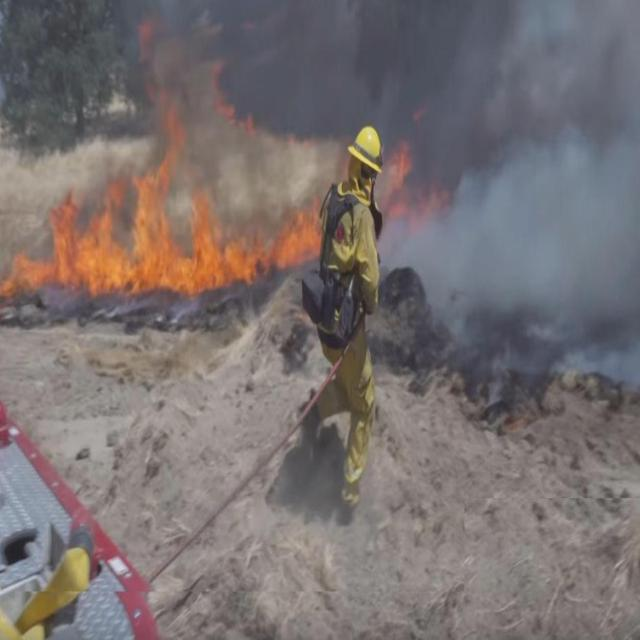fire: (6, 196, 316, 298)
smoke: (441, 2, 640, 367)
